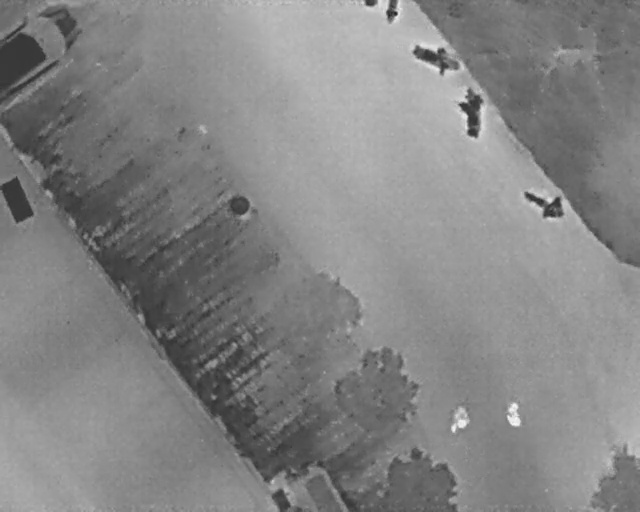Bicycle: (517, 178, 573, 226), (407, 37, 467, 81), (456, 84, 486, 140), (383, 0, 400, 25)
Car: (0, 4, 83, 114)
Person: (448, 403, 474, 436), (504, 400, 523, 429)
